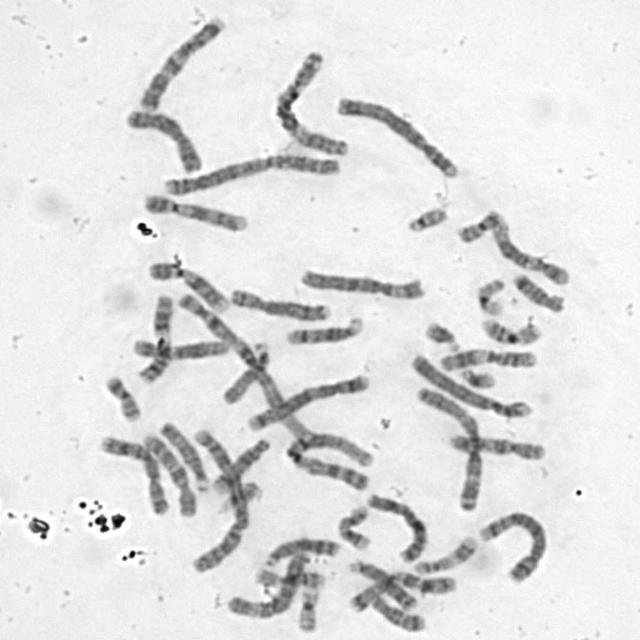A1: (172, 287, 312, 441), (279, 429, 384, 494)
A2: (186, 426, 254, 575), (156, 150, 349, 200)
A3: (413, 384, 488, 512), (270, 48, 354, 158)
B4: (334, 91, 465, 183), (408, 346, 534, 421)
B5: (244, 372, 373, 433), (476, 506, 554, 589)
C10: (441, 433, 550, 464), (127, 338, 230, 362)
C11: (137, 291, 176, 387), (437, 344, 545, 374)
C12: (490, 216, 574, 287), (141, 431, 198, 520)
C6: (223, 546, 309, 628), (299, 264, 430, 302)
C7: (134, 11, 236, 114), (345, 568, 461, 617)
C8: (92, 432, 174, 519), (227, 286, 334, 322)
C9: (138, 192, 250, 236), (146, 259, 231, 316)
D13: (342, 560, 421, 614), (260, 534, 343, 570)
D14: (212, 437, 274, 498), (282, 312, 367, 348)
D15: (219, 338, 276, 410), (158, 420, 212, 492)
E16: (475, 316, 544, 346), (252, 568, 330, 589)
E17: (368, 595, 429, 635), (333, 506, 372, 551)
E18: (412, 534, 478, 577), (508, 270, 566, 316)
F19: (473, 276, 508, 318), (296, 584, 318, 638)
F20: (101, 374, 145, 425), (457, 208, 503, 246)
G21: (424, 320, 462, 354), (458, 365, 498, 392)
G22: (399, 201, 453, 236), (215, 480, 263, 516)
X: (119, 111, 205, 174), (362, 492, 430, 564)
